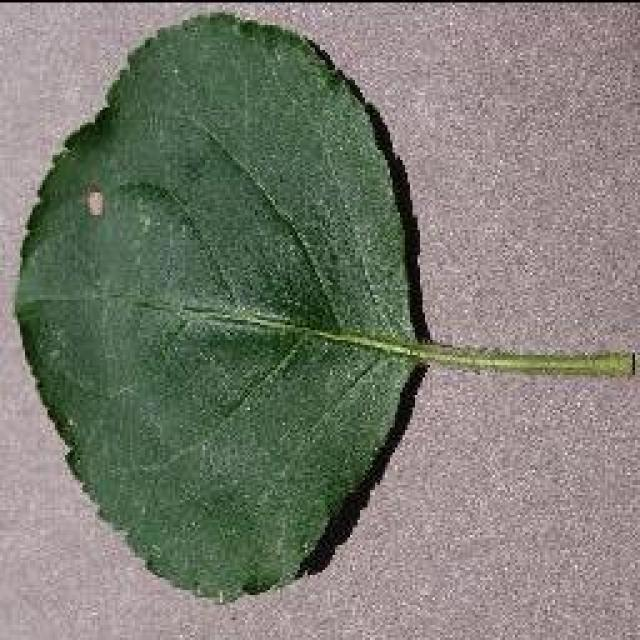apple black rot: (12, 10, 432, 602)
